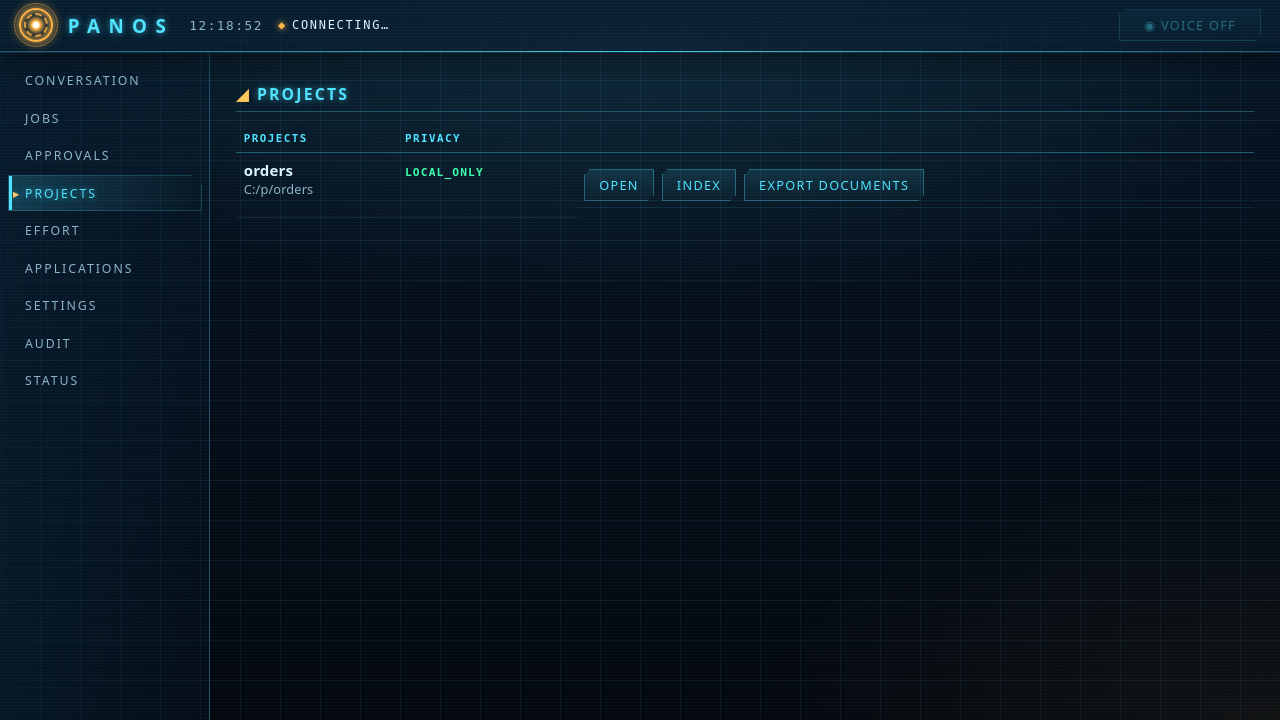
[BR-001] [FR-002] connections, knowledge and exports (M8-07) › exports a project's documents
Click the button "Export documents": (834, 185) 744,169 -> 924,201
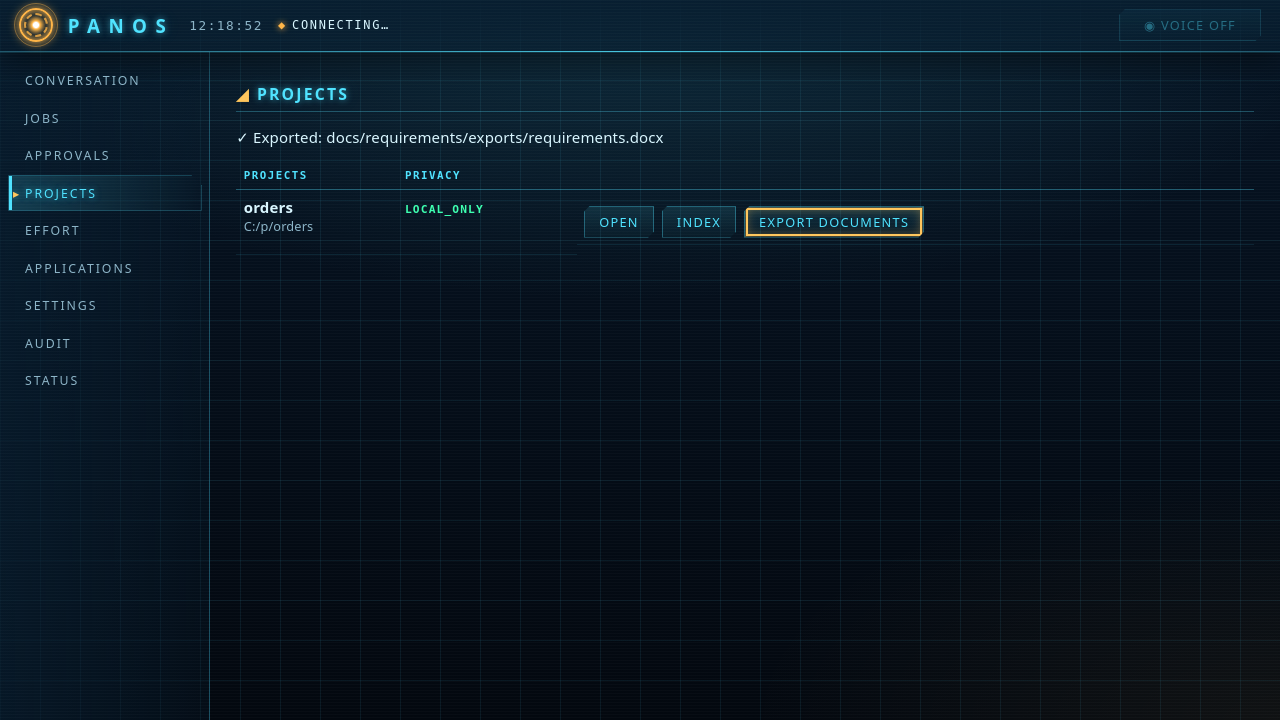
Now the text "✓ Exported: docs/requirements/exports/requirements.docx" is shown, box 236,127 -> 664,147
